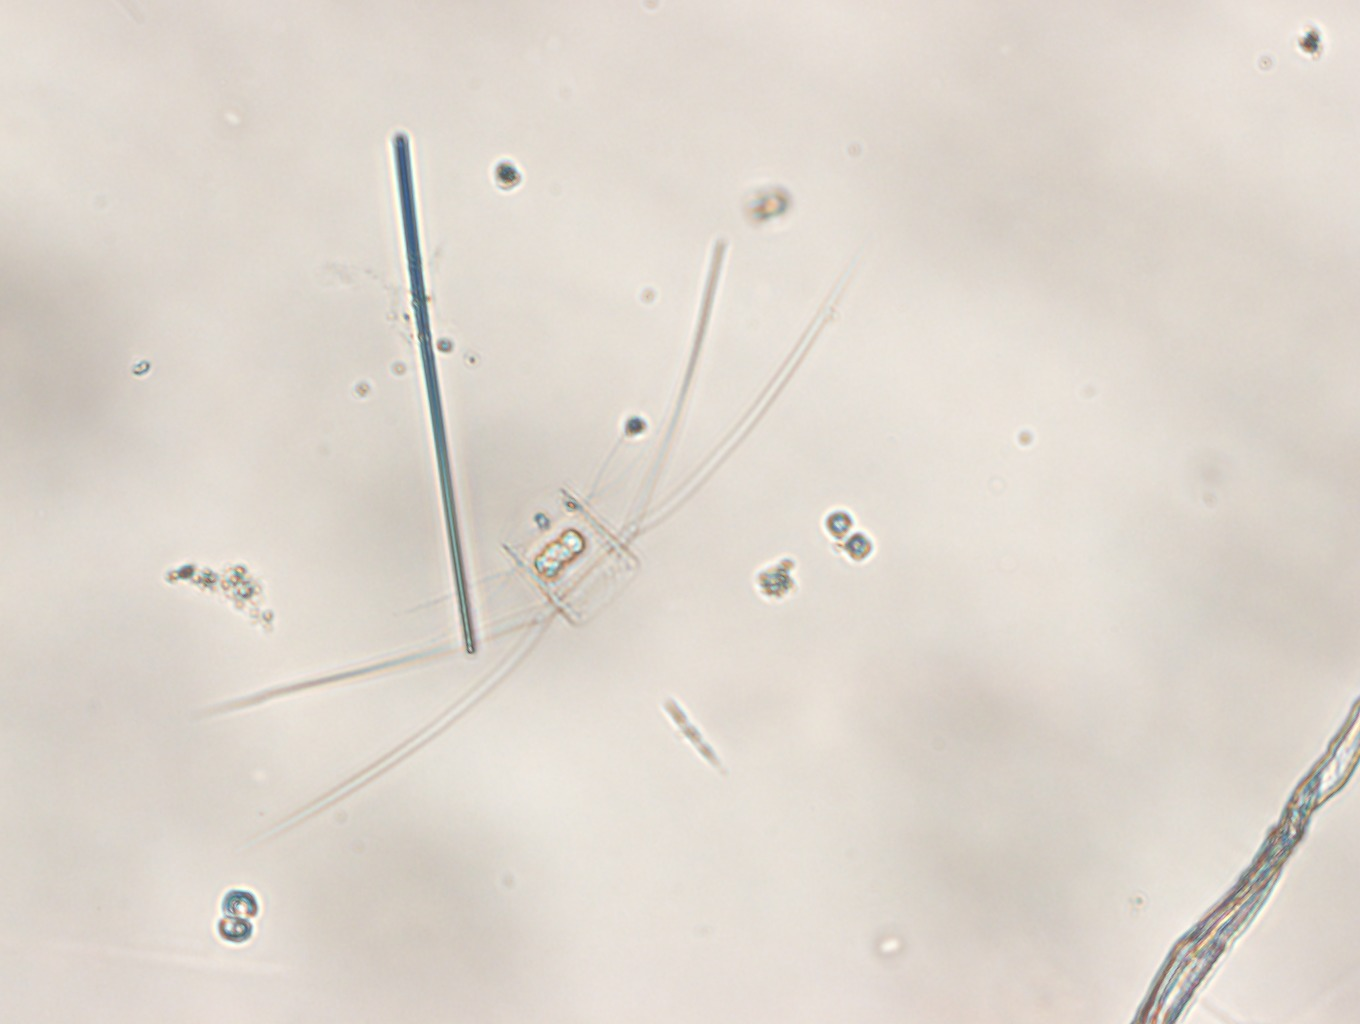chaetoceros: (217, 231, 855, 834)
